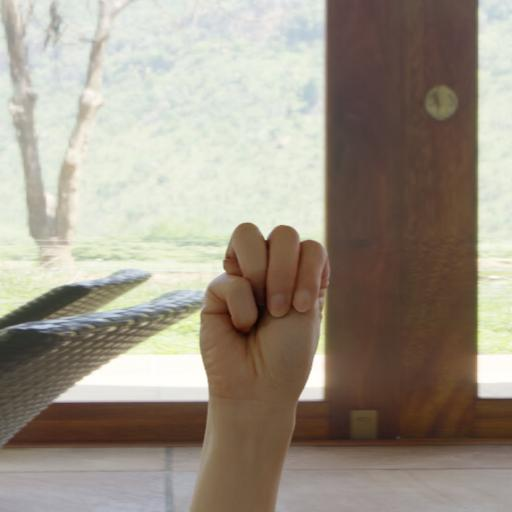M: (178, 208, 348, 424)
